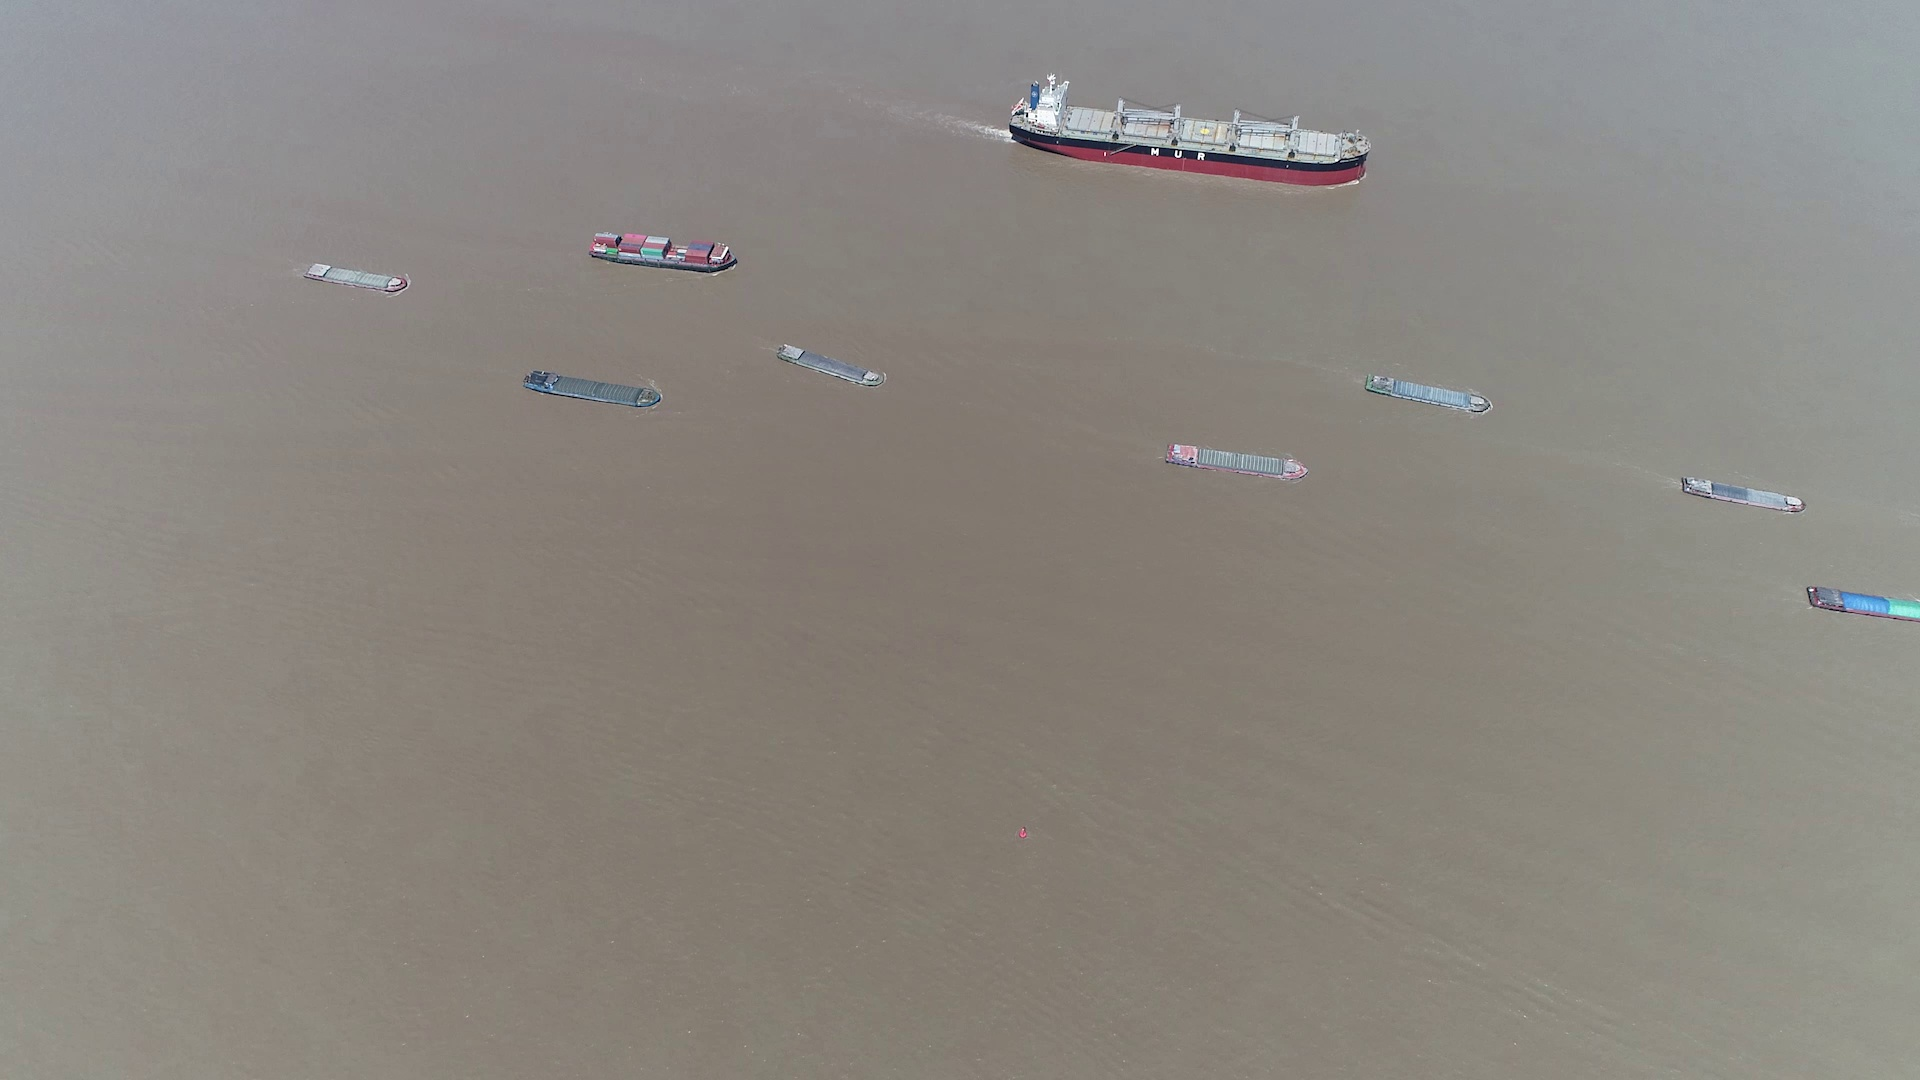ship: (1011, 76, 1367, 182), (571, 243, 721, 287), (588, 231, 738, 272), (1164, 442, 1307, 481), (1364, 372, 1491, 414), (522, 371, 662, 409), (1677, 473, 1805, 513), (775, 345, 884, 392), (1805, 584, 1919, 622), (302, 261, 410, 293)
